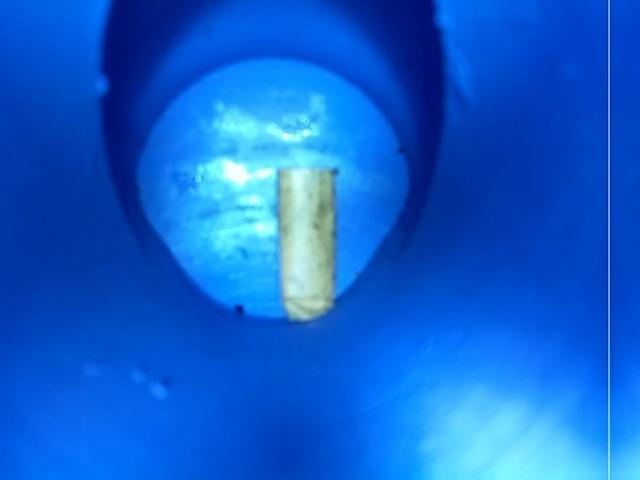megot: (266, 162, 346, 326)
